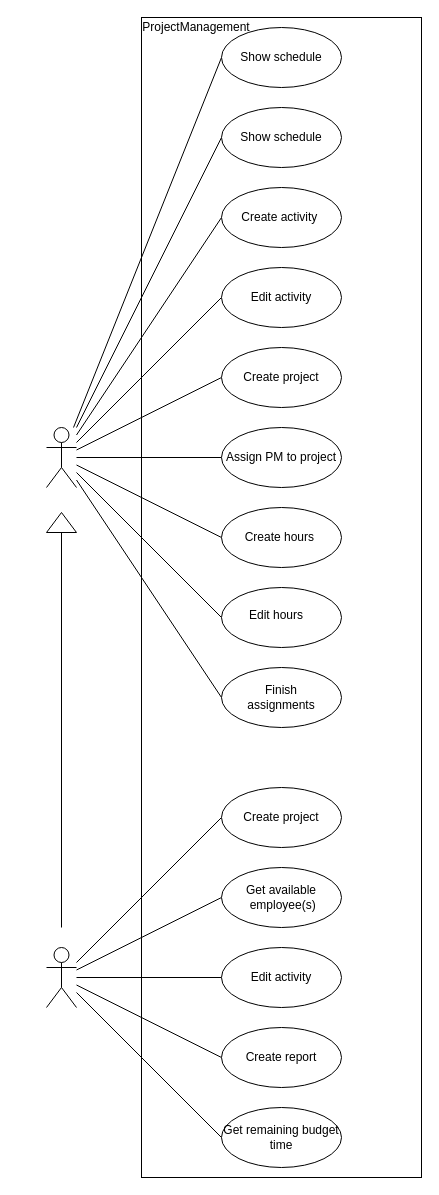
This 439x1195 diagram has some shape labels left out. The centre of each missing label's shape, as x and y in pixels:
Employee: (x=61, y=457)
Project Manager: (x=61, y=977)
